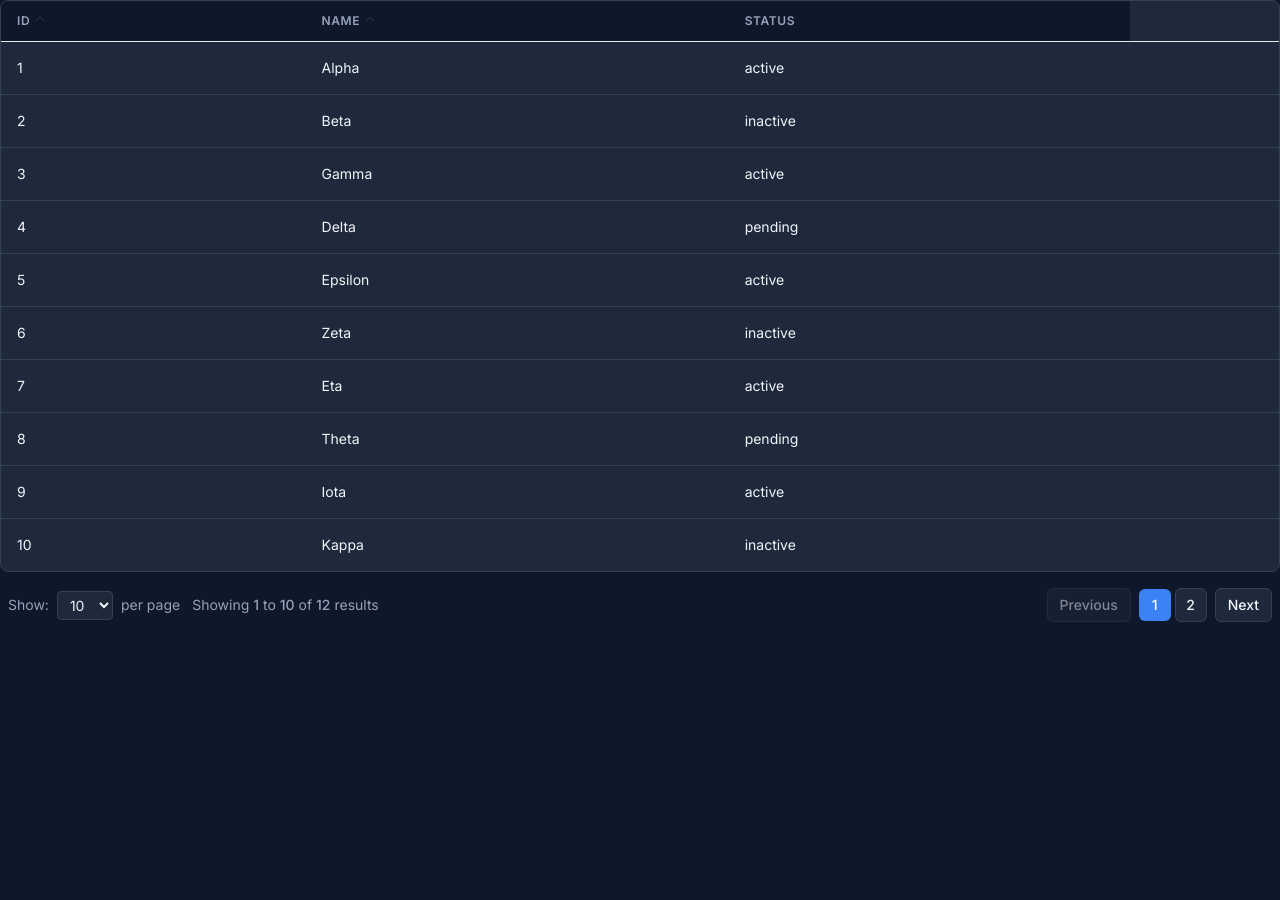
DataTable › pagination › navigates to previous page
This screenshot has width=1280, height=900.
Go to page 2 first
Click the button "2" at (1191, 605), box [1175,588,1207,622]
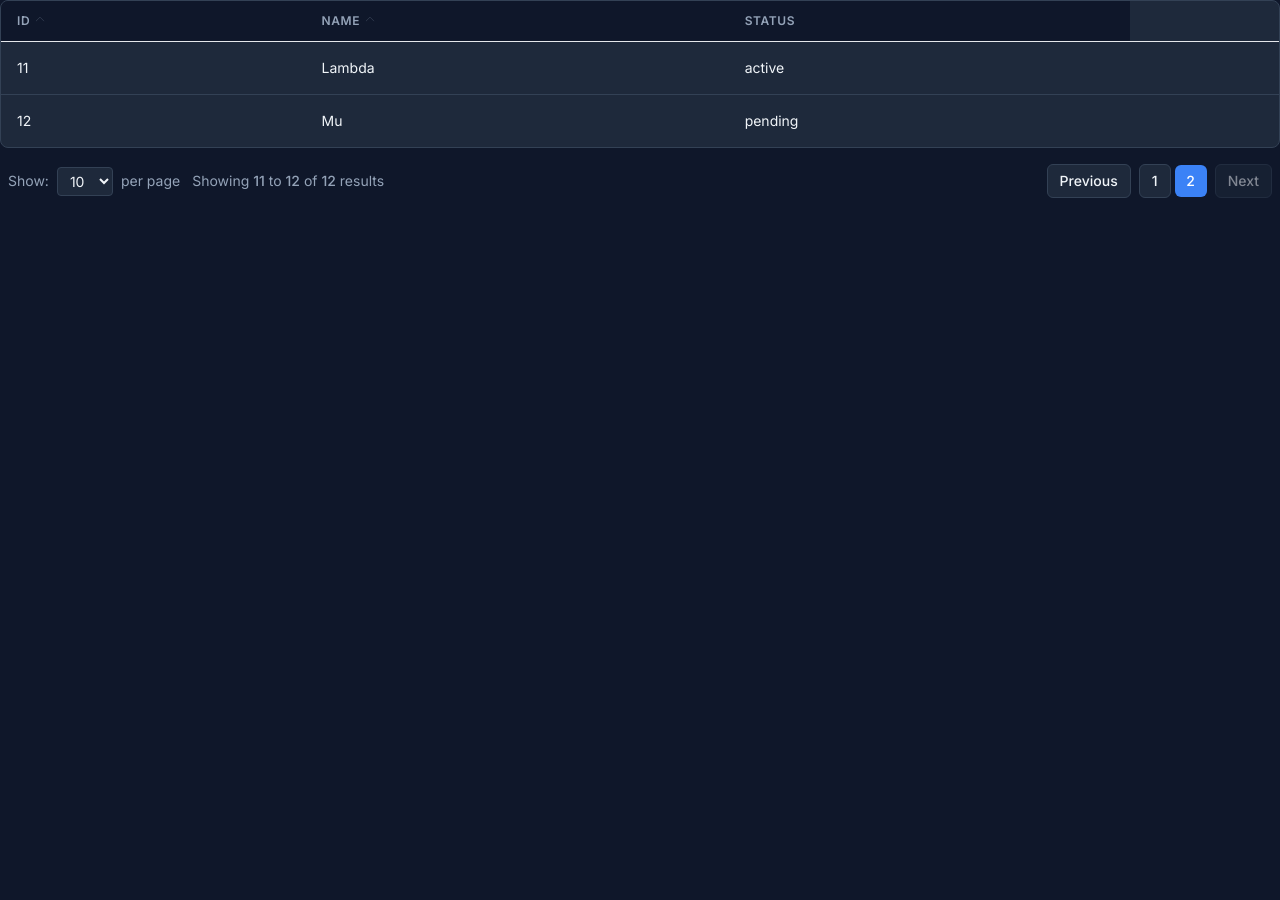
 Go back
Click the button "Previous" at (1089, 181), box [1047,164,1131,198]
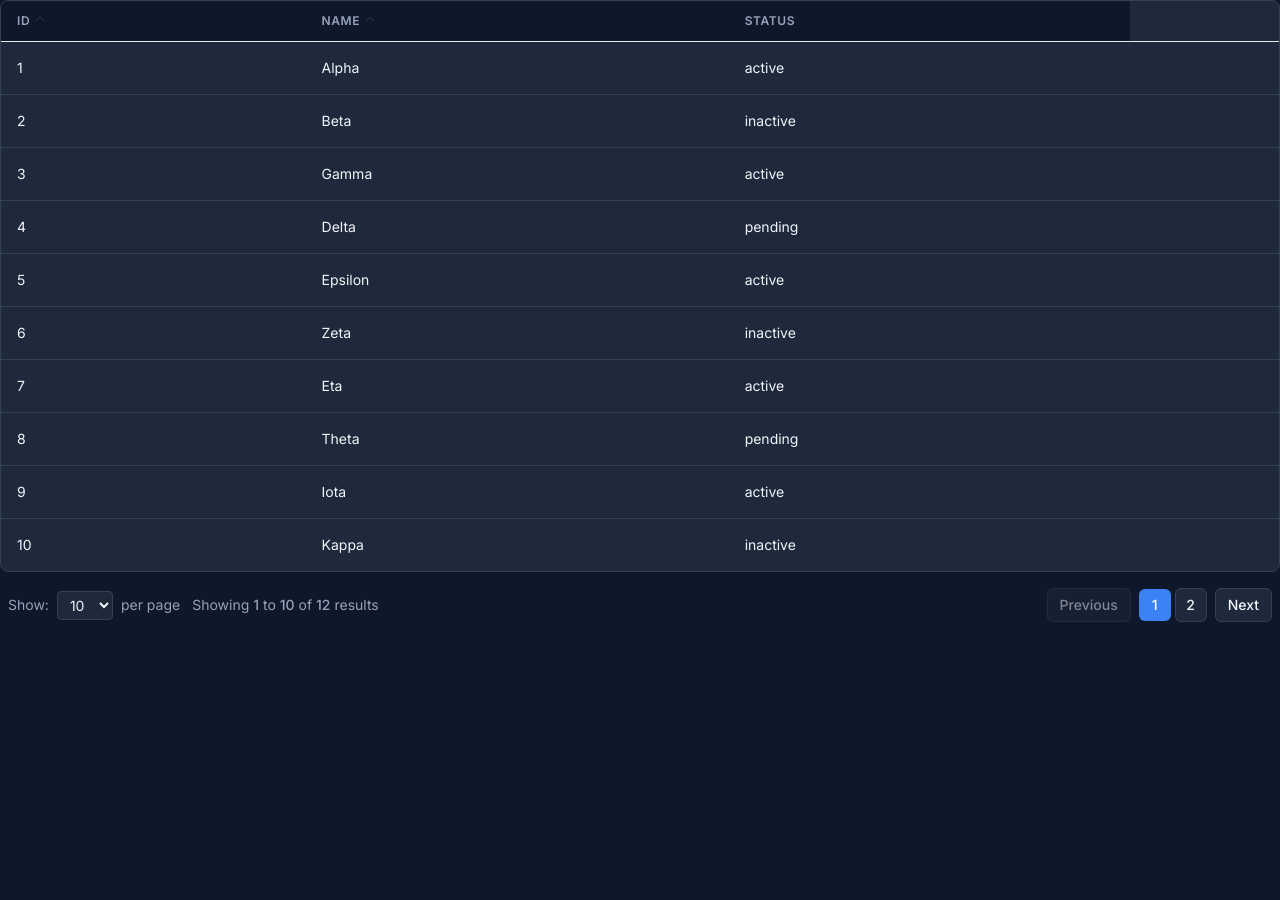
expect the text "Alpha" is shown: met, box [306,42,729,94]
